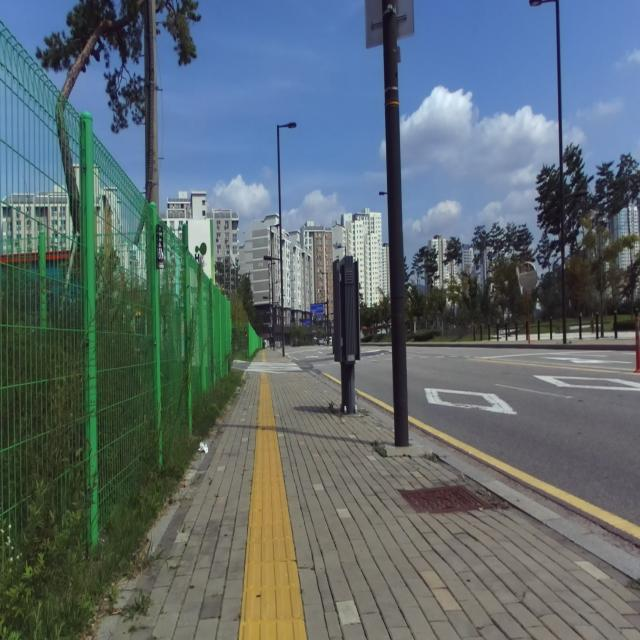횡단보도: (245, 362, 302, 373)
